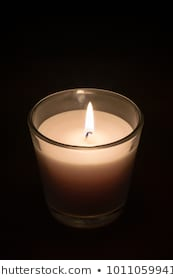Fire: (82, 97, 96, 139)
